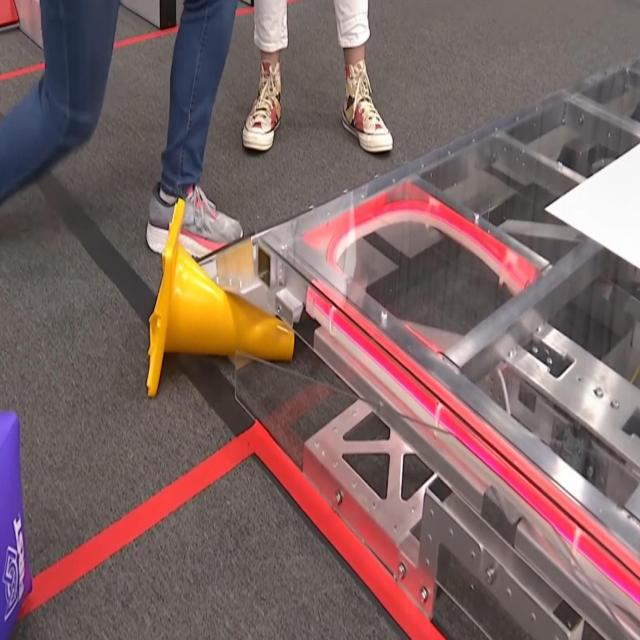frc_cone: (146, 196, 297, 401)
frc_cube: (0, 407, 33, 640)
